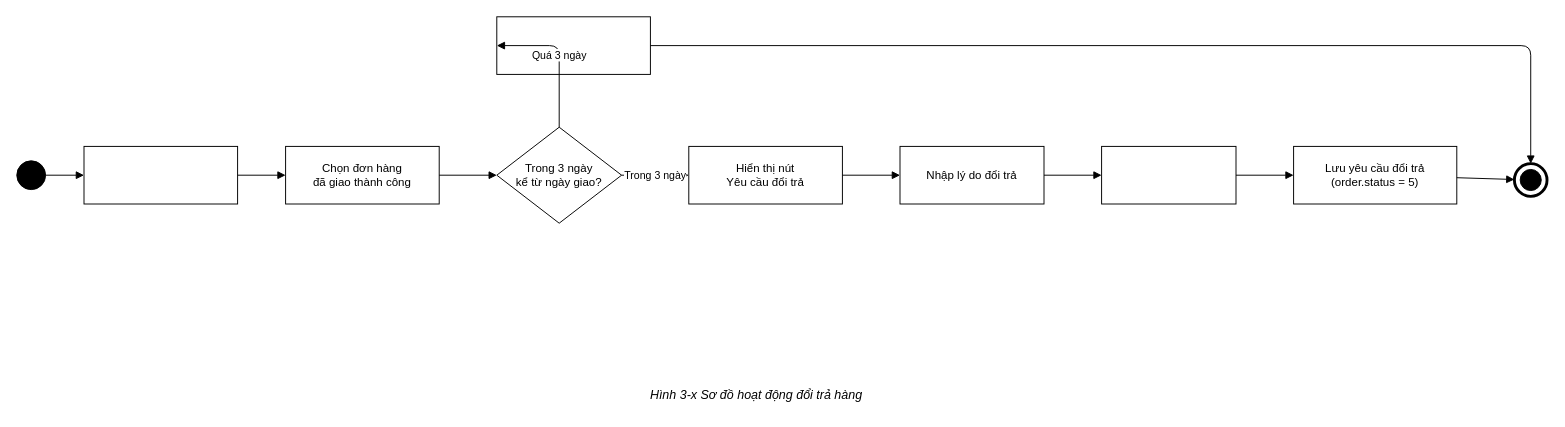
The diagram is 1565 pixels wide and 427 high, and some of its shapes have lost their labels. The box of each missing label's shape, as (x1, y1, x2, y2) in pixels:
Khách hàng vào trang lịch sử đơn hàng: (83, 145, 238, 204)
Nhấn Xác nhận: (1101, 145, 1236, 204)
Nút đổi trả không hiển thị: (496, 16, 650, 74)
